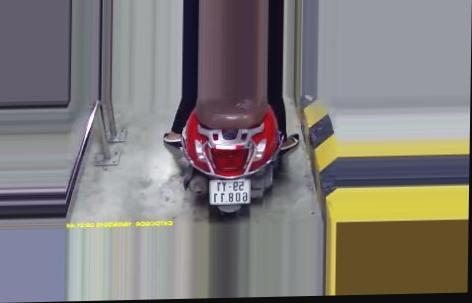License_Plate: (205, 175, 255, 210)
